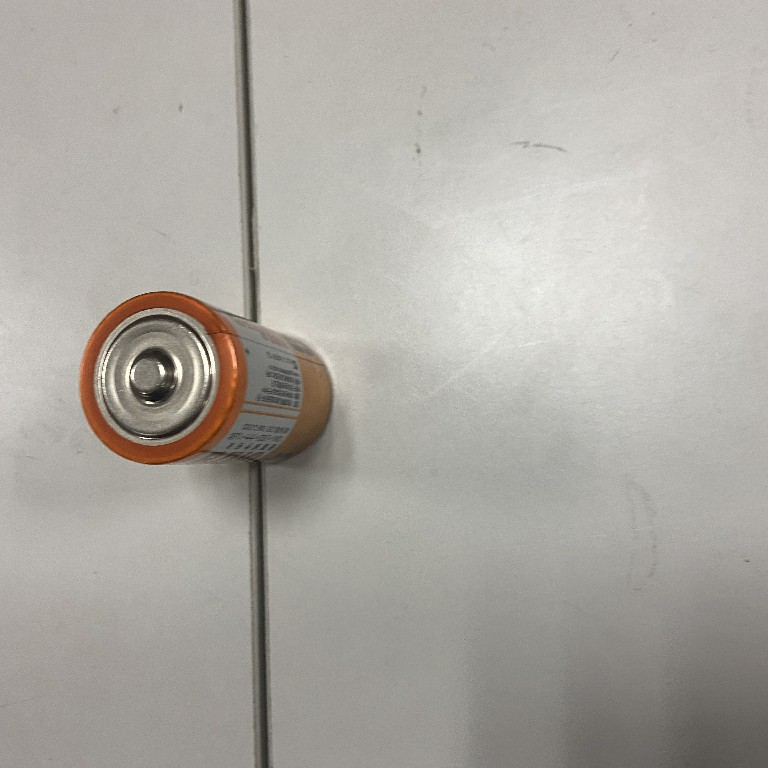charge: (74, 290, 338, 471)
